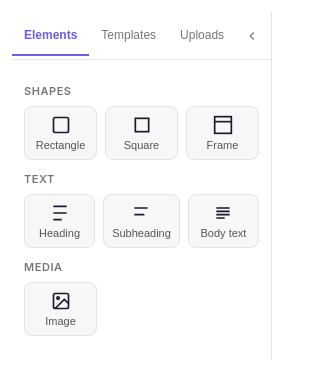
Scenario: LeftSidebar › switches to Uploads tab
Click the button "Uploads" at x=202, y=36, box [168,16,236,56]
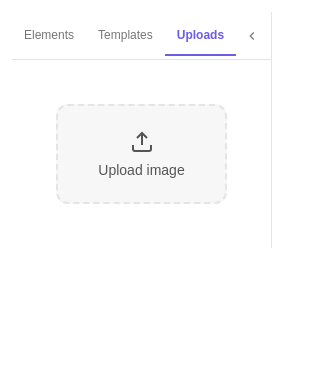
Check: the button "Upload image" is shown, box [56,104,227,204]
